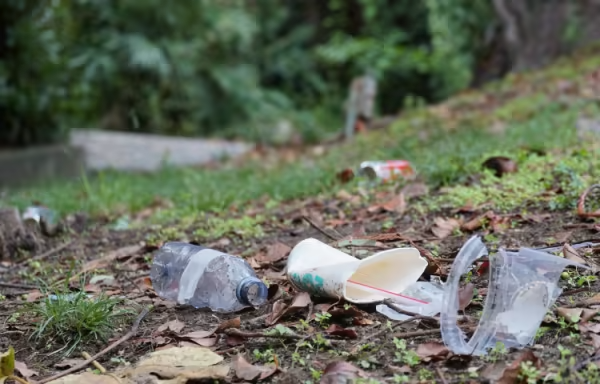paper: (295, 241, 414, 303)
plastic: (441, 247, 556, 357), (153, 246, 266, 309)
